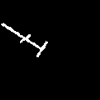double_crochet: (1, 23, 47, 56)
